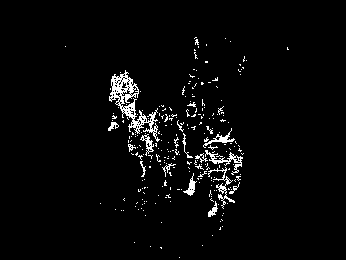person: (202, 120, 243, 225), (152, 102, 181, 191), (127, 107, 157, 183), (181, 100, 206, 180), (115, 70, 138, 137)
